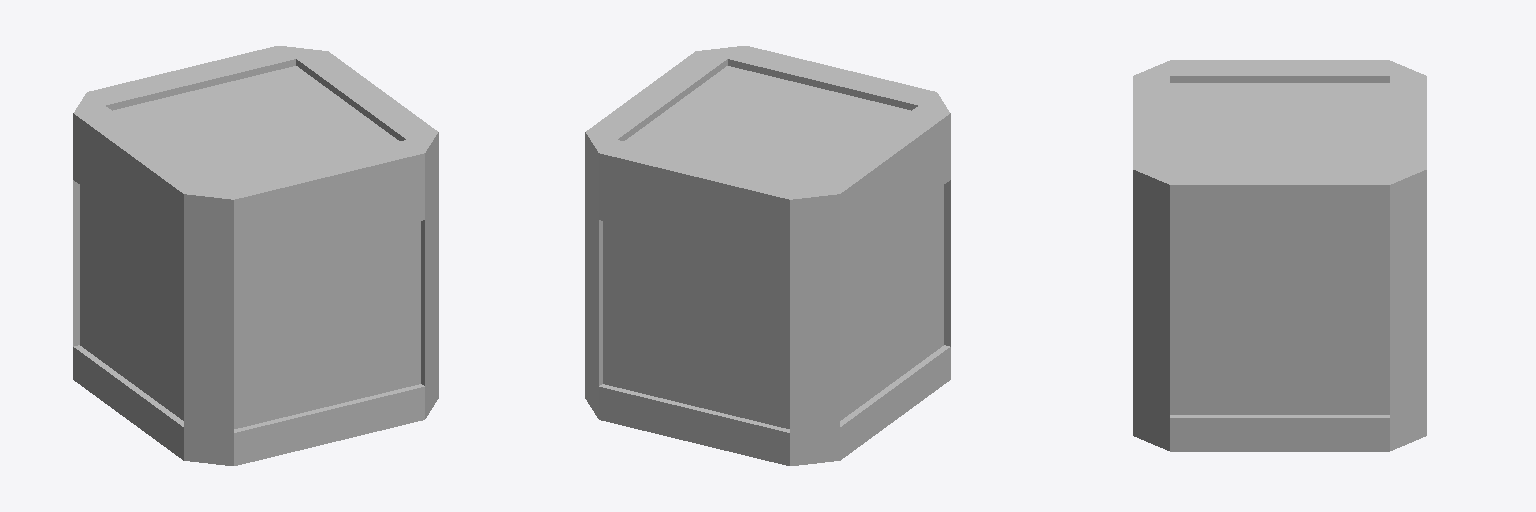
File: radiant_chest.obj
The picture shows the model from 3 angles: view 1: azimuth 30°, elevation 25°; view 2: azimuth 150°, elevation 25°; view 3: azimuth 270°, elevation 25°; orthographic projection.
Parts seen in each view (by area): view 1: box, lid_left, lid_right; view 2: box, lid_left, lid_right; view 3: box, lid_right, lid_left.
Part boxes in pixels (x1,y1,x2,y2): box: (73, 147, 438, 465); lid_left: (73, 69, 329, 232); lid_right: (183, 46, 438, 209); box: (585, 147, 950, 465); lid_left: (694, 69, 950, 232); lid_right: (585, 46, 840, 209); box: (1133, 203, 1426, 451); lid_right: (1133, 123, 1426, 217); lid_left: (1133, 60, 1426, 128).
Size of the model in its own units: 0.9843 by 0.9843 by 0.9843.